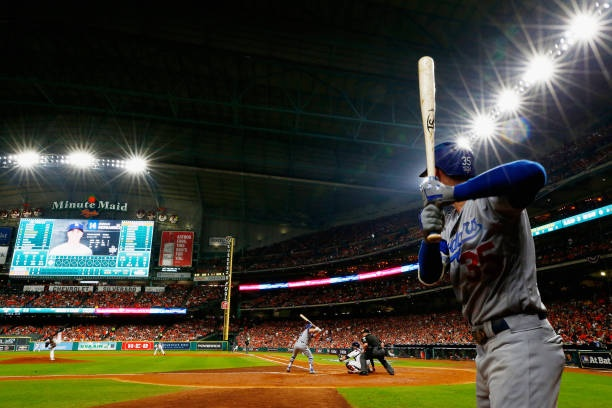bita: (419, 55, 440, 192)
